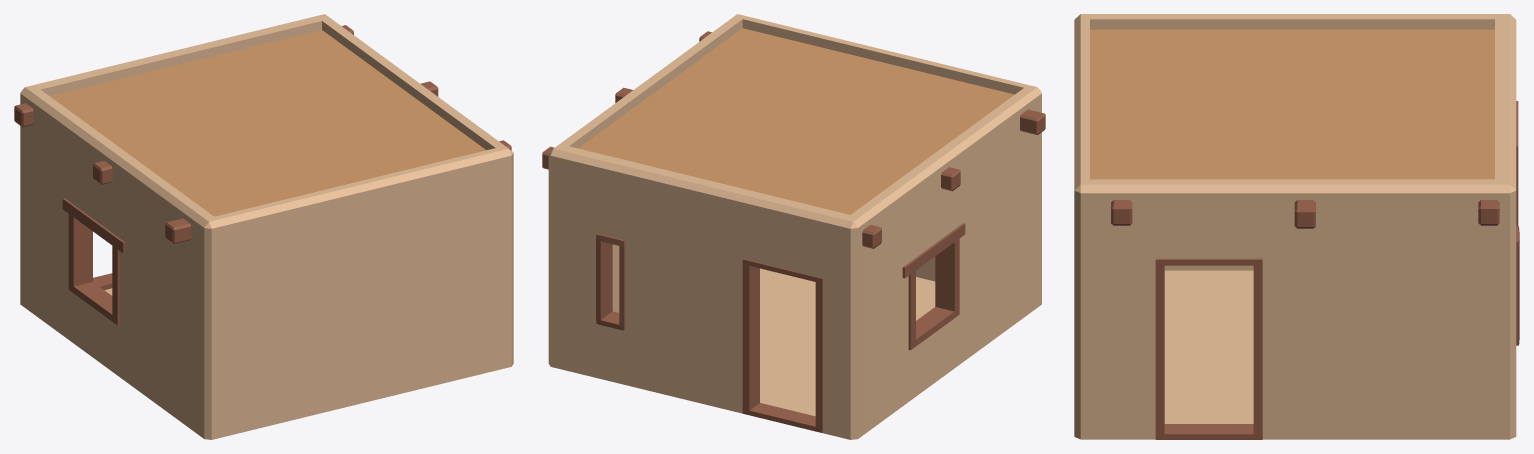
Rendered from Small Building Frame A.fbx.
3 renders of one model, left to right at view 1: azimuth 30°, elevation 25°; view 2: azimuth 150°, elevation 25°; view 3: azimuth 270°, elevation 25°, orthographic. The views are drawn at different scales.
Parts seen in each view (by area): view 1: Small Building Frame A; view 2: Small Building Frame A; view 3: Small Building Frame A.
Boxes of the visible parts, bbox=[...] form: Small Building Frame A: bbox=[14, 14, 513, 439]; Small Building Frame A: bbox=[542, 14, 1045, 439]; Small Building Frame A: bbox=[1074, 14, 1519, 439].
Bounding box in the file's own units: 548 × 328 × 526.
